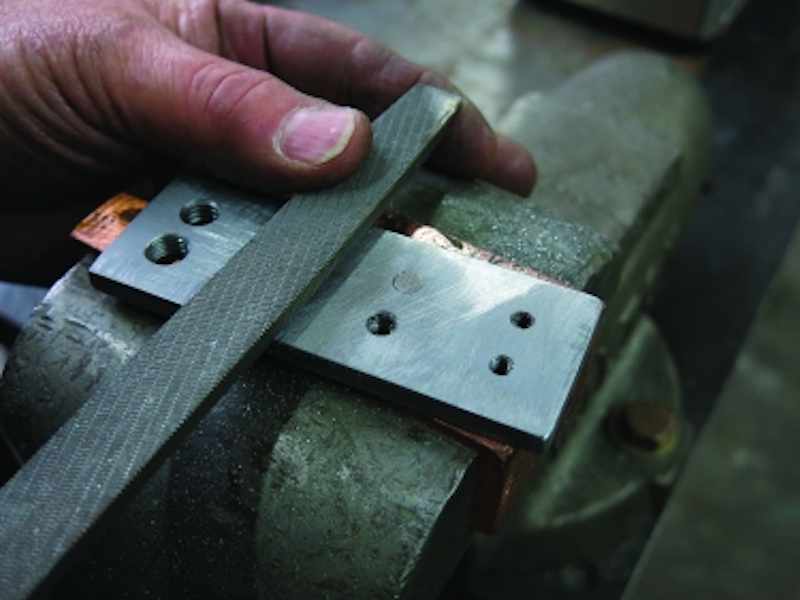hole: (141, 232, 192, 268), (179, 194, 223, 227), (364, 308, 401, 339), (486, 350, 517, 378), (507, 308, 539, 332)
